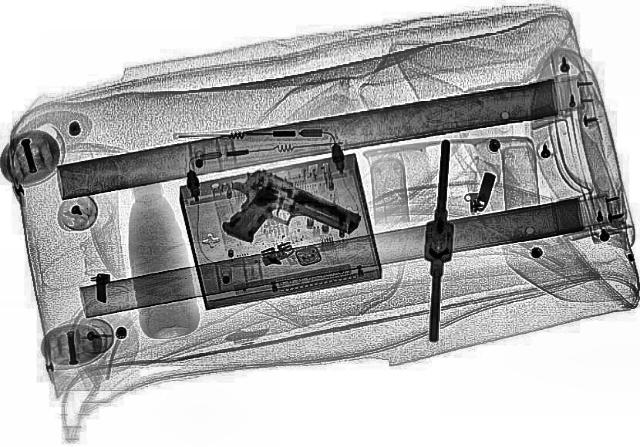Gun: (195, 165, 371, 269)
